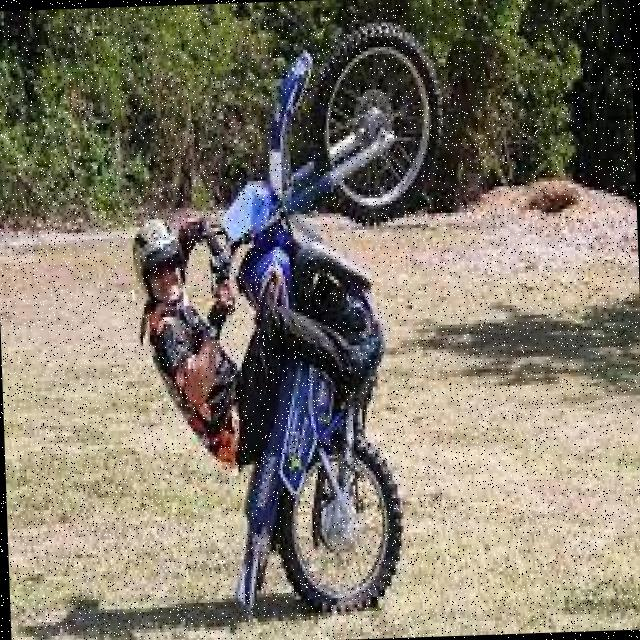Wheeling: (135, 13, 458, 631)
